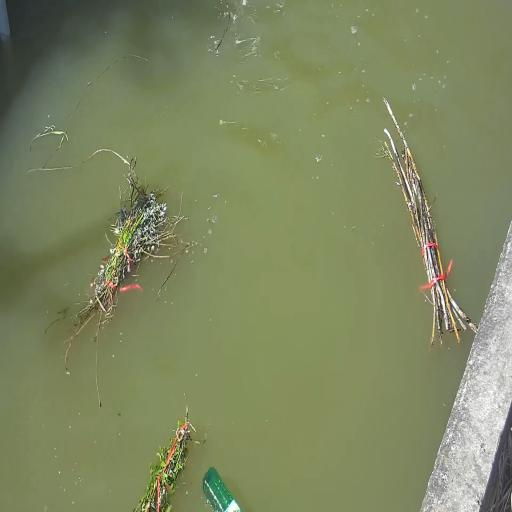plastic: (200, 462, 243, 512)
twig: (379, 90, 482, 346), (65, 186, 177, 335), (135, 405, 196, 512)
